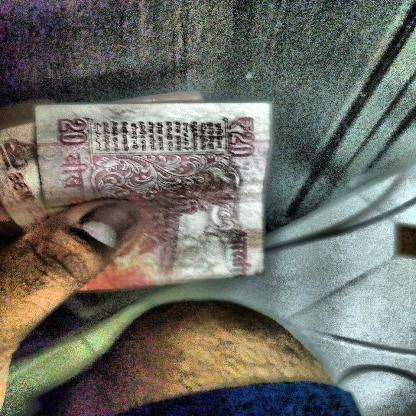Rs20: (223, 113, 260, 161), (53, 115, 91, 149)
